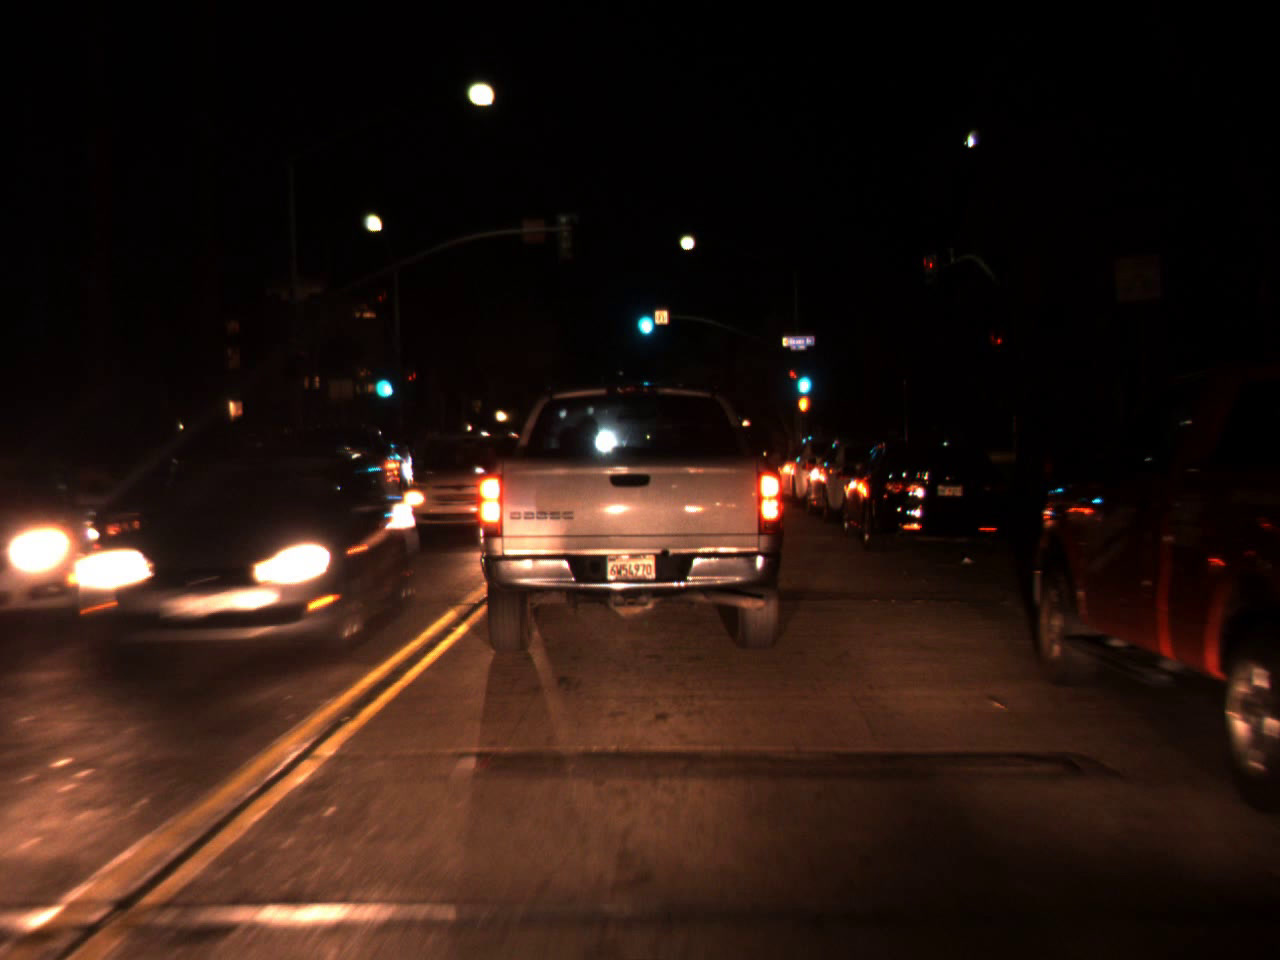go: (370, 358, 393, 403), (632, 295, 655, 340), (792, 357, 813, 399)
